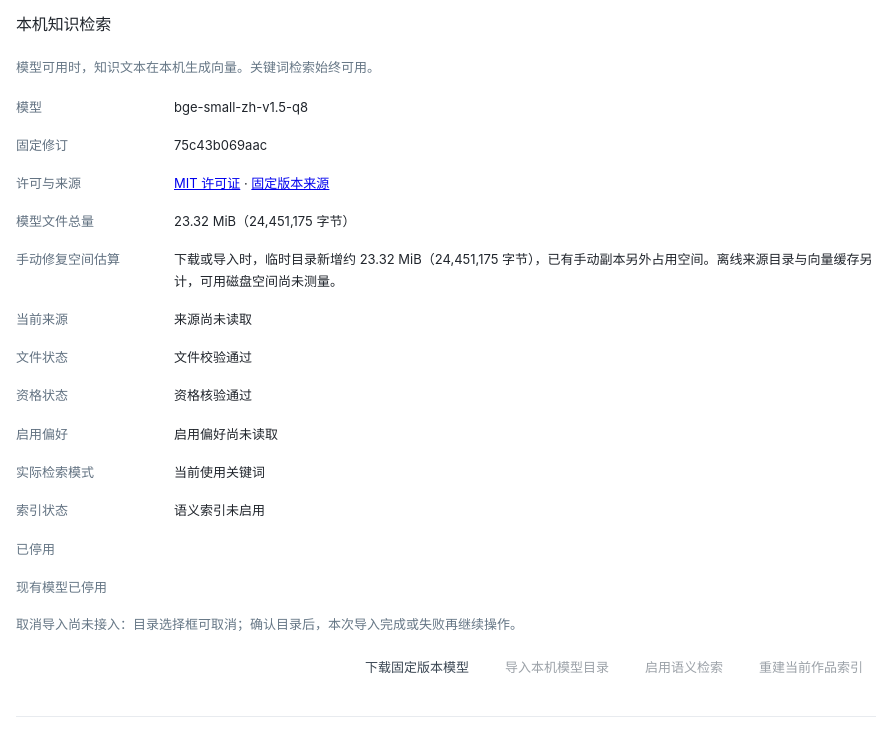
it: 下载失败说明原因并释放保护，保留原模型状态
Expected: the text "现有模型已停用" is shown, [16, 578, 107, 594]
Click the button "下载固定版本模型" at (417, 667), box [352, 650, 482, 684]
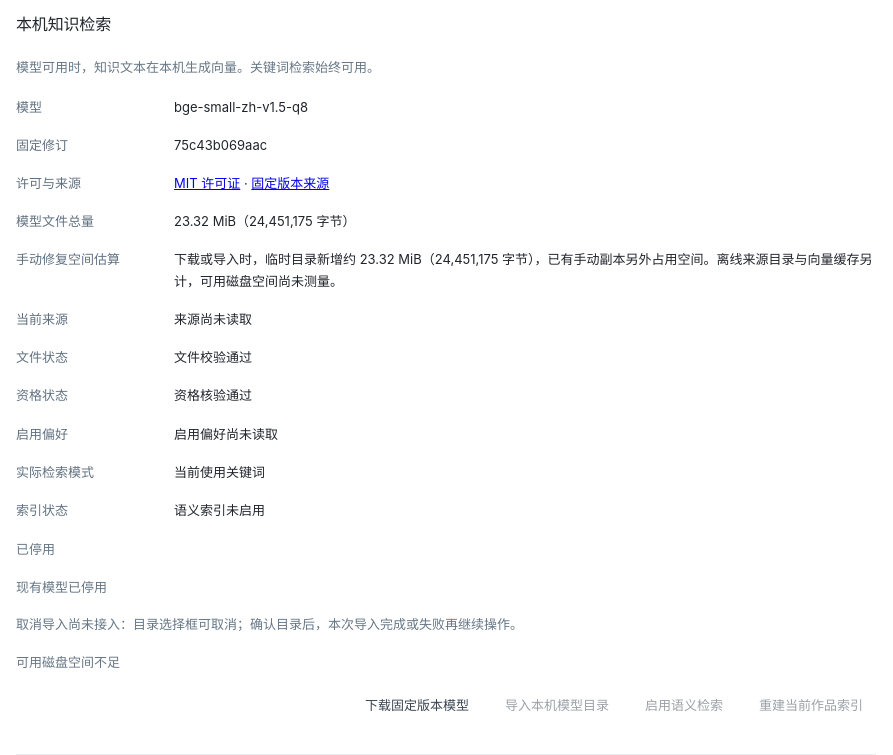
Expected: the text "现有模型已停用" is shown, [16, 578, 107, 594]
Expected: the message "可用磁盘空间不足" is shown, [16, 654, 120, 670]
